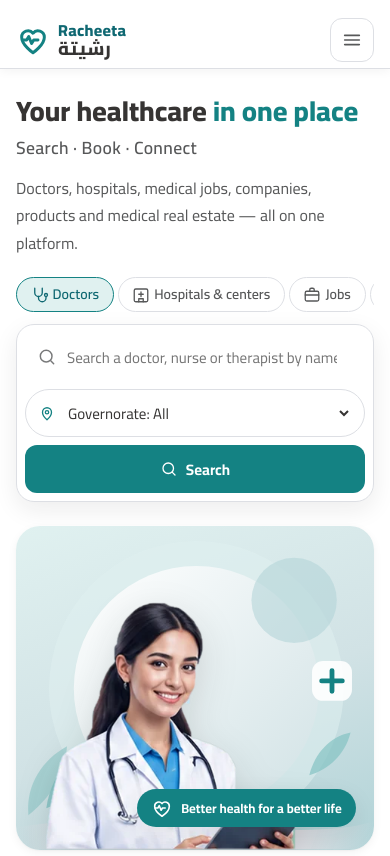
Scenario: SiteHeader mobile panel › lists every route in one panel so nothing is lost on a phone
Click the button named "open menu" at (352, 40), box [330, 18, 374, 62]
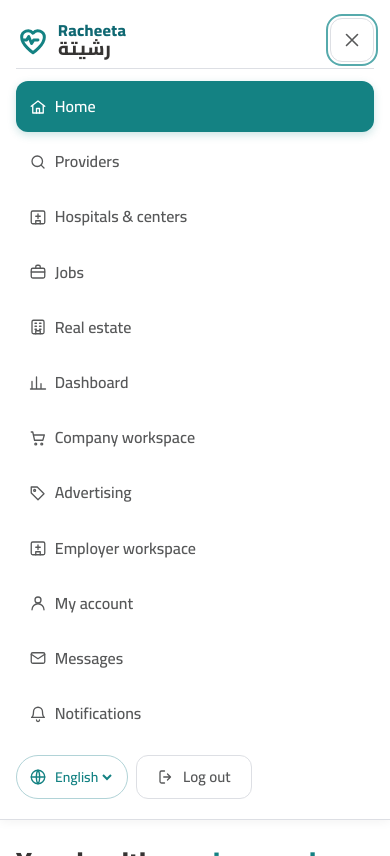
Check: the button "Log out" is shown, box [136, 755, 252, 799]
